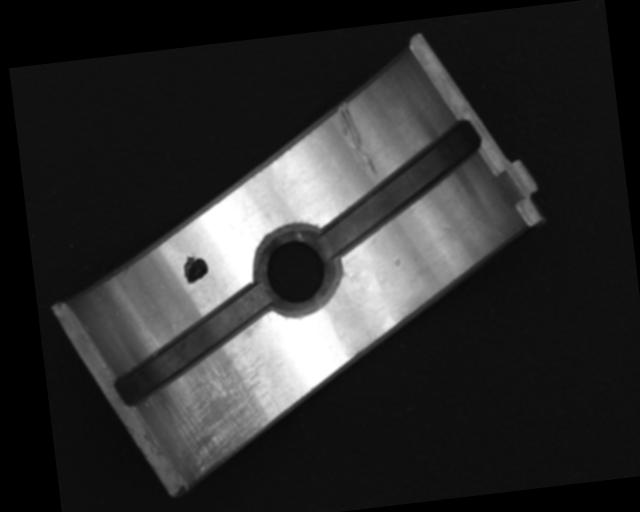blot: (180, 253, 210, 286)
bruise: (392, 253, 402, 267)
gap: (309, 121, 490, 259), (104, 282, 281, 407)
hole: (252, 222, 343, 321)
nick: (335, 98, 377, 179)
scratch: (156, 343, 285, 478)
